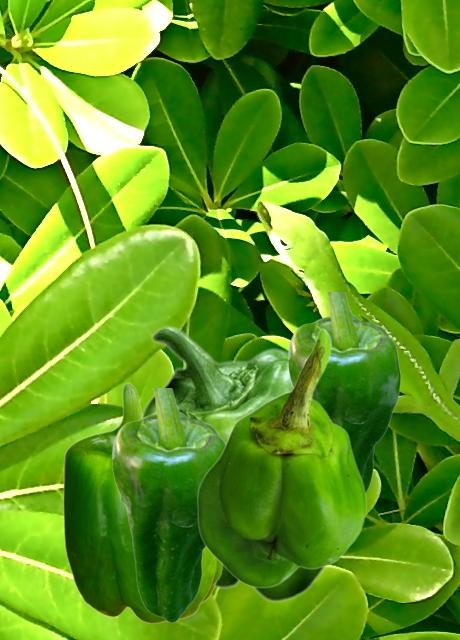bell_pepper: (142, 325, 326, 602), (196, 327, 366, 587), (62, 382, 223, 623), (111, 388, 225, 622), (287, 292, 400, 491)
